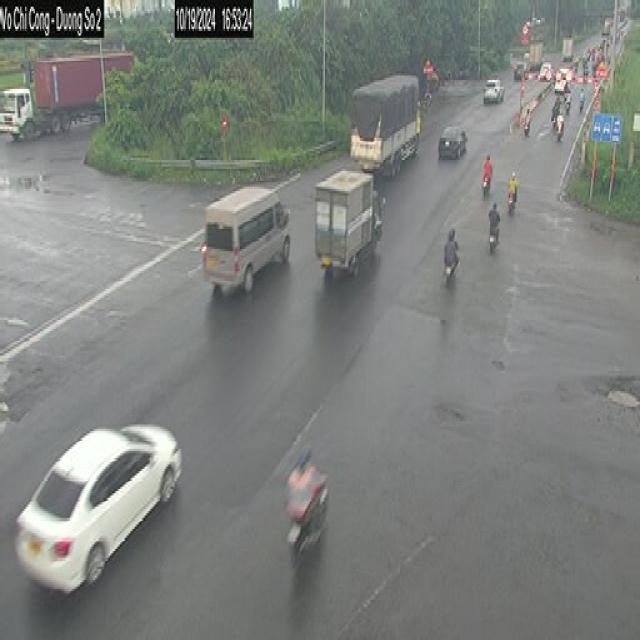car: (4, 417, 191, 609), (185, 187, 297, 280), (435, 120, 469, 163), (481, 72, 507, 106)
container-truck: (0, 67, 124, 139)
motorcycle: (282, 477, 326, 551), (437, 246, 464, 284), (479, 218, 504, 252), (507, 192, 518, 215), (481, 176, 493, 194)
truck: (310, 169, 389, 285), (343, 76, 428, 172), (289, 448, 315, 483), (487, 202, 503, 230), (445, 224, 458, 254), (509, 170, 521, 200), (483, 154, 493, 174)
